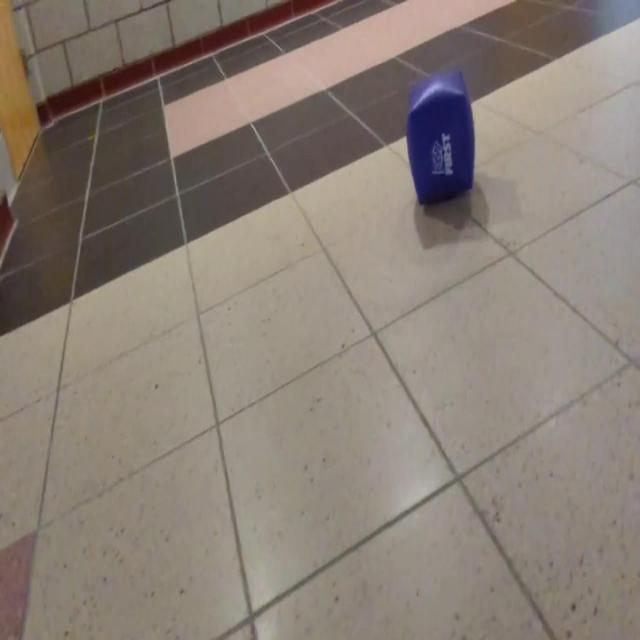frc_cube: (406, 72, 476, 209)
